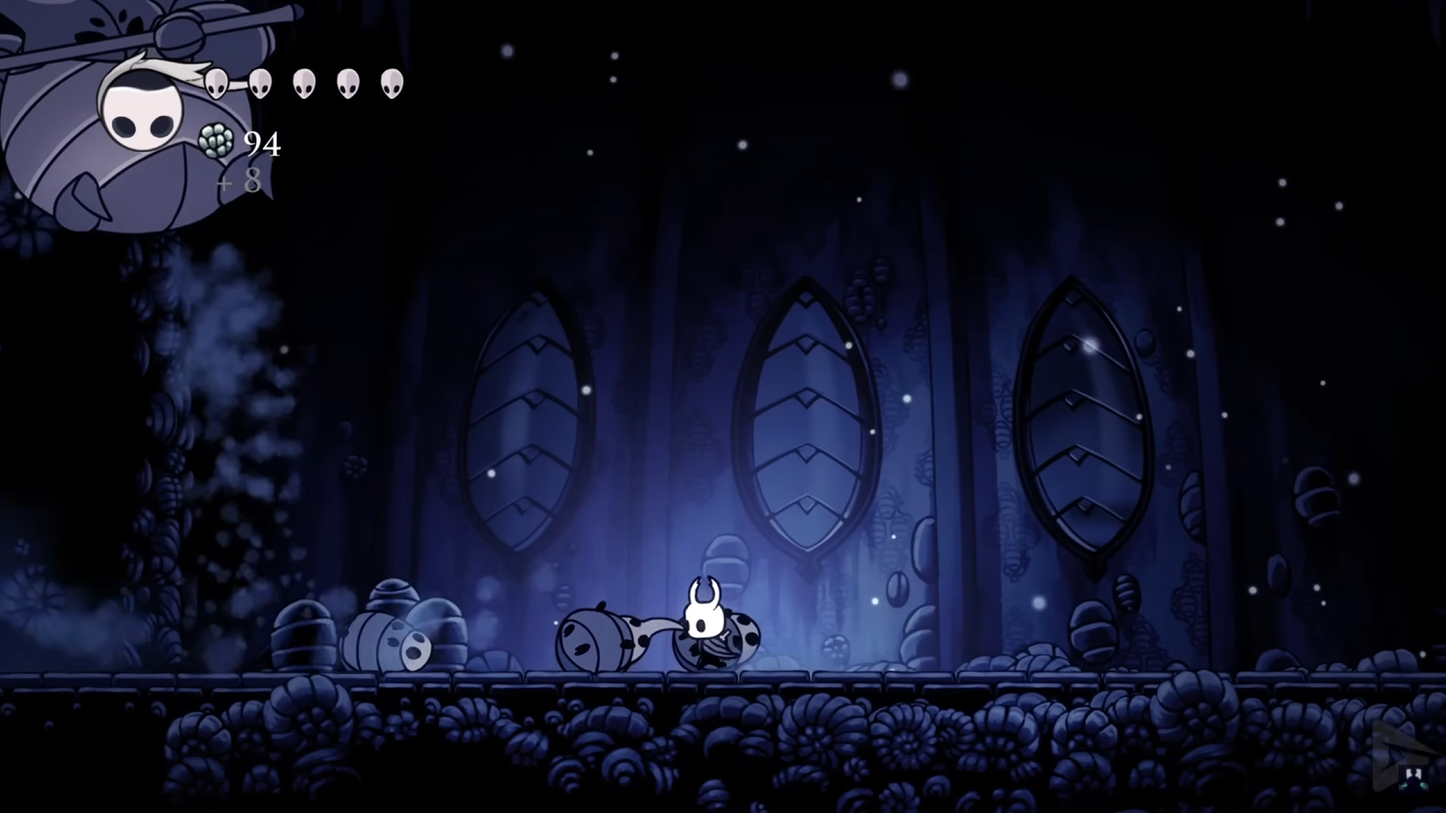HK: (673, 573, 736, 674)
